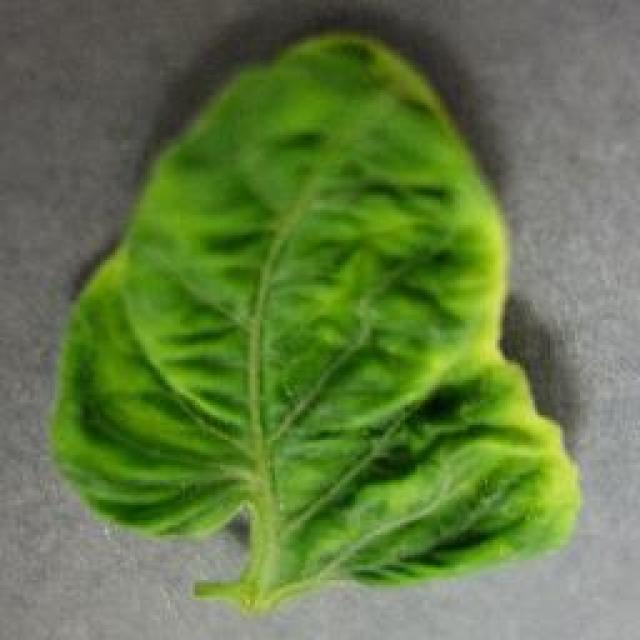Tom_Yellow_Leaf_Curl_Virus: (95, 66, 569, 576)
